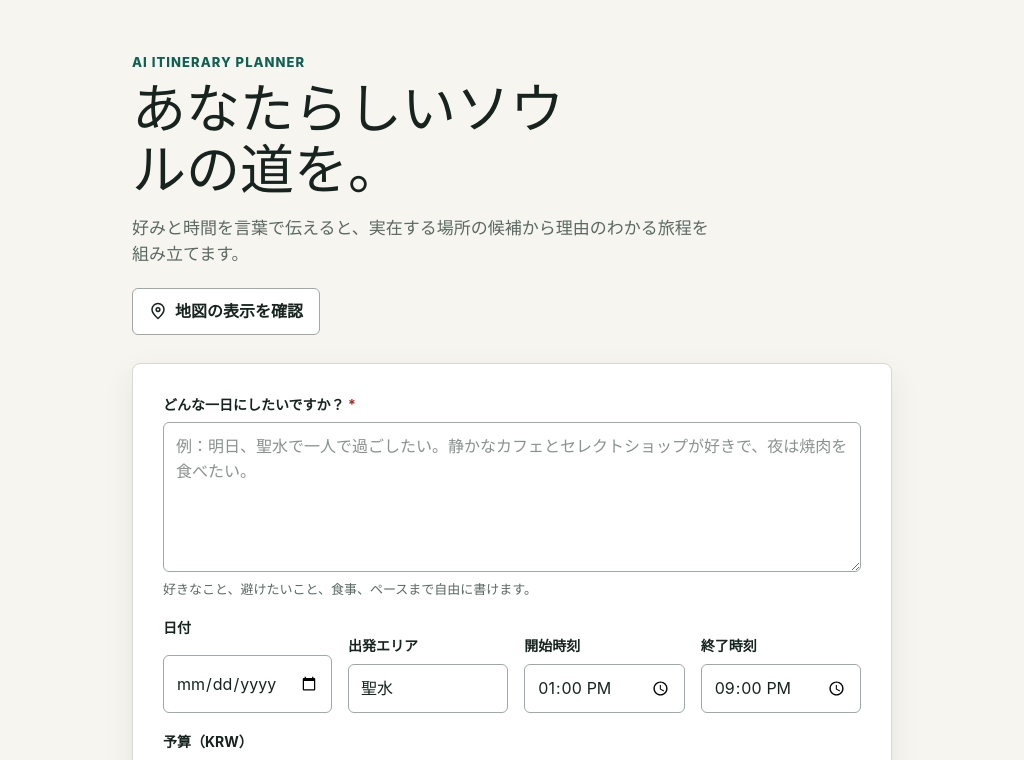
Test: trip planner flow › keeps the input and shows an API failure
Type "静かな場所だけをゆっくり歩きたいです。" into the text box labelled "どんな一日にしたいですか？ *". click: (512, 497)
box: [163,422,861,572]
(page scrolled)
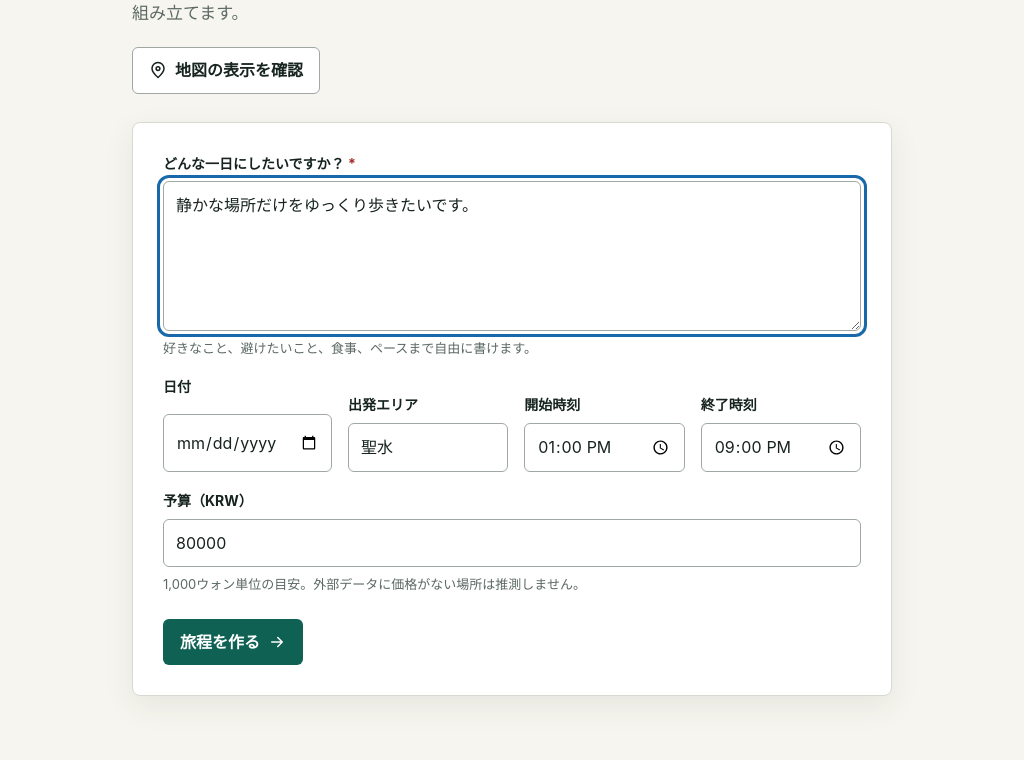
Click the button "旅程を作る". click: click(233, 642)
box: [163,618,303,665]
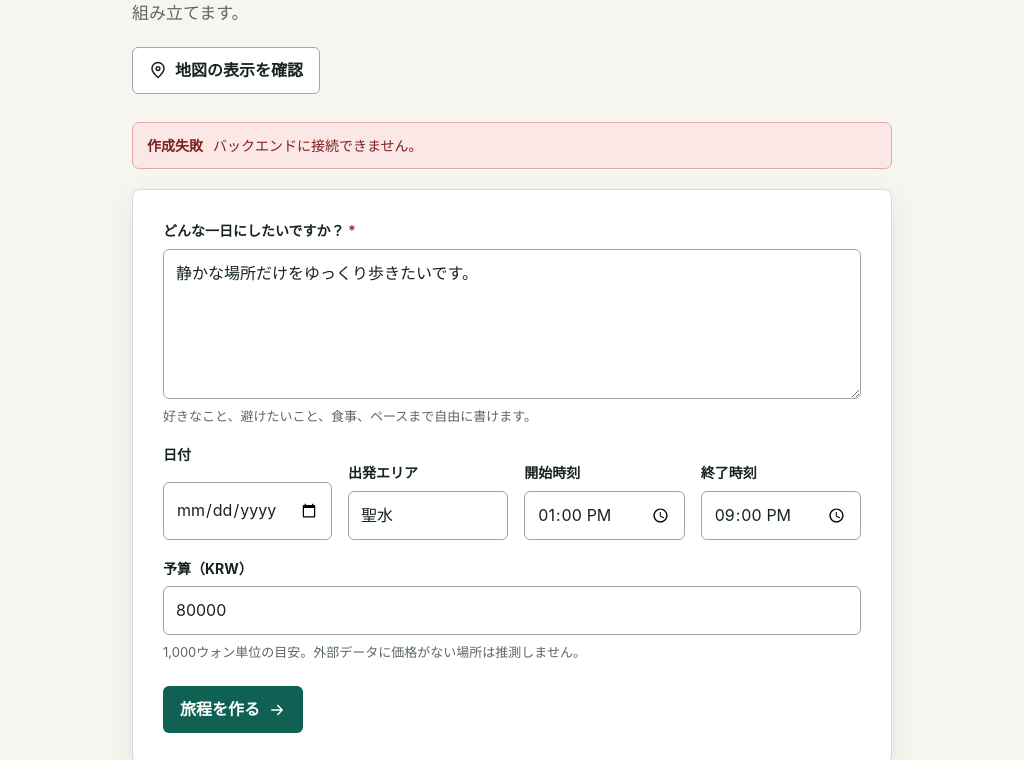
expect the message shows "バックエンドに接続できません。": met, box [213,137,423,154]
